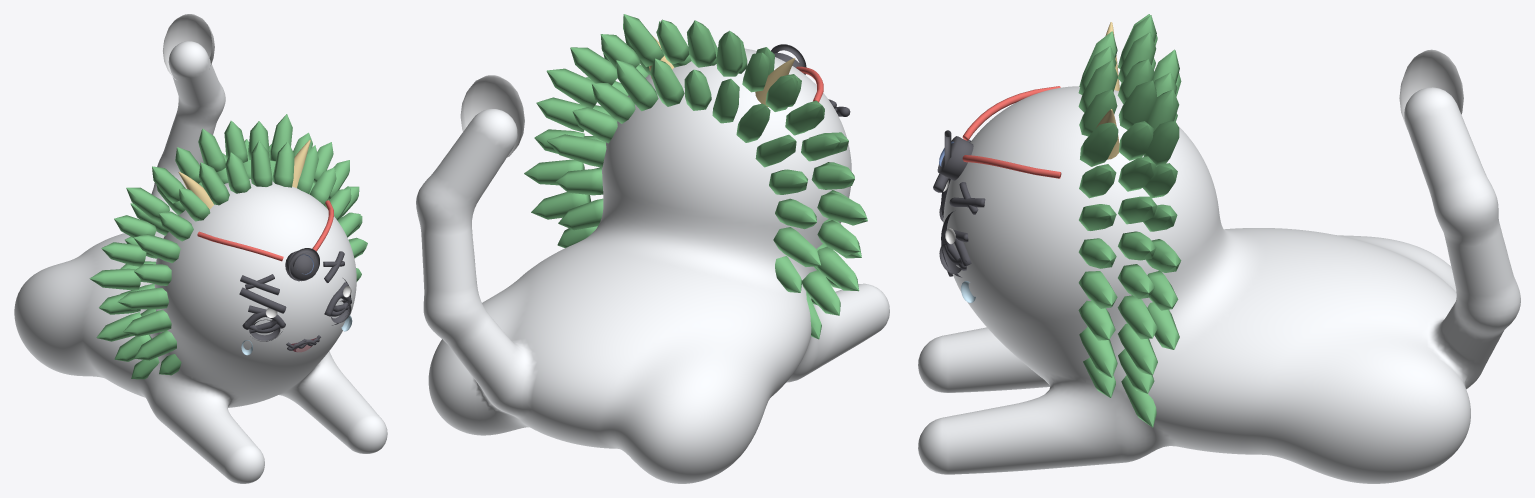
Rendered from m_lion_slime.glb.
The picture shows the model from 3 angles, left to right: view 1: azimuth 30°, elevation 25°; view 2: azimuth 150°, elevation 25°; view 3: azimuth 270°, elevation 25°; orthographic projection. The views are drawn at different scales.
Visible parts, largest first — view 1: BodyMesh, face_eyes_normal, face_eyes_happy, face_brows_angry, face_eyes_strain, face_brow_smug; view 2: BodyMesh; view 3: BodyMesh, face_eyes_normal.
Boxes of the visible parts, bbox=[...] form: BodyMesh: bbox=[14, 14, 387, 483]; face_eyes_normal: bbox=[250, 278, 351, 341]; face_eyes_happy: bbox=[242, 292, 351, 329]; face_brows_angry: bbox=[240, 251, 344, 295]; face_eyes_strain: bbox=[248, 282, 348, 333]; face_brow_smug: bbox=[239, 287, 286, 313]; BodyMesh: bbox=[416, 14, 889, 483]; BodyMesh: bbox=[918, 14, 1520, 483]; face_eyes_normal: bbox=[939, 178, 961, 277].
Bounding box in the file's own units: 1.9 × 2 × 2.62.
